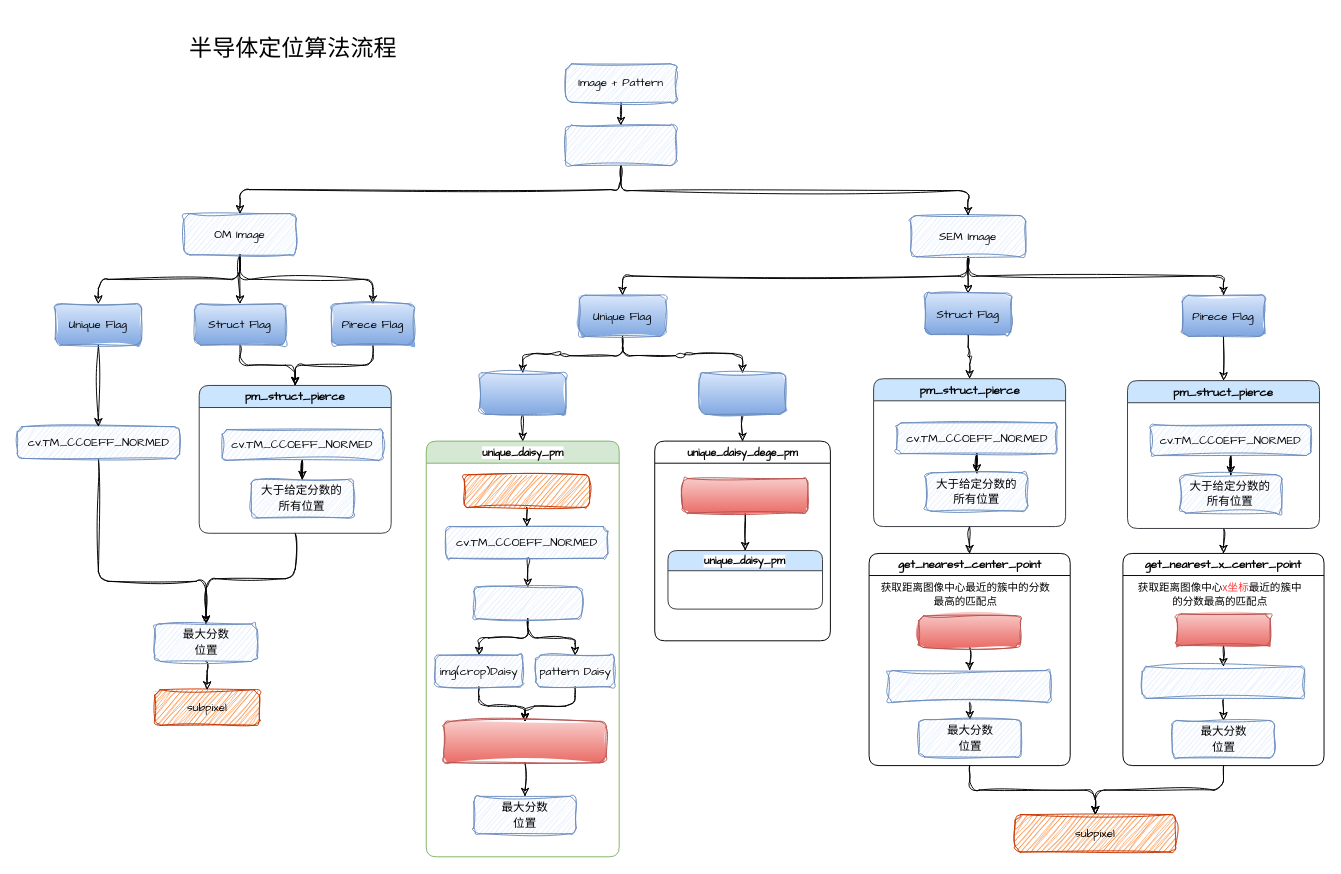
Image size: 1341x874. Some labels were removed from this diagram. Each missing label, with the centre of its shape:
"cv.TM_CCORR_NORMED daisy特征自相关分数" goes at (524,741).
"DBSCAN" goes at (969,631).
"Edge Flag" goes at (742,393).
"find_img_center_cluster" goes at (969,686).
"find_img_center_x_cluster" goes at (1223,682).
"GaussianBlur x 2" goes at (620,145).
"Image/Template Frangi增强" goes at (745,495).
"NMS(0.8)" goes at (527,602).
"subpixel(Resize)" goes at (526,490).
"Versatile Flag" goes at (522,393).
"x_DBSCAN" goes at (1223,629).
